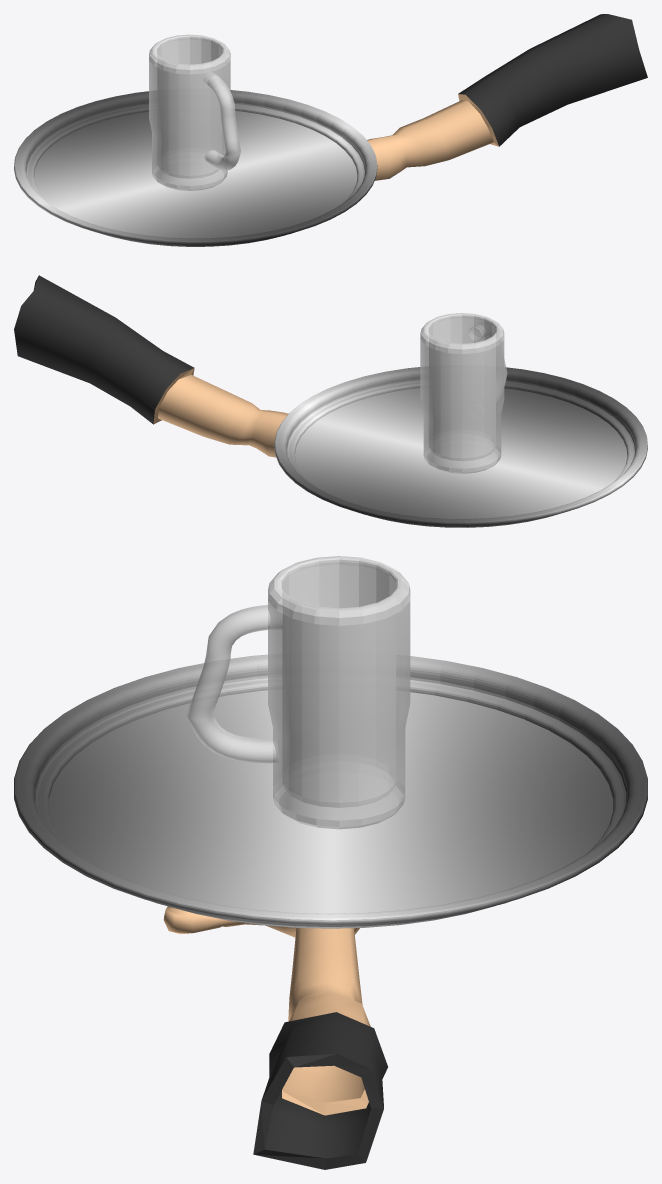
File: braco.obj
3 views of the same model, one above another, from view 1: azimuth 30°, elevation 25°; view 2: azimuth 150°, elevation 25°; view 3: azimuth 270°, elevation 25° (orthographic). The views are drawn at different scales.
Visible parts, largest first — view 1: bandeja, corpo, Cylinder03, Loft01; view 2: bandeja, corpo, Cylinder03; view 3: bandeja, Cylinder03, corpo, Loft01.
Part boxes in pixels (left/top/right/bottom): bandeja: left=14, top=90, right=377, bottom=246; corpo: left=367, top=14, right=647, bottom=180; Cylinder03: left=149, top=34, right=230, bottom=190; Loft01: left=203, top=72, right=240, bottom=170; bandeja: left=274, top=367, right=647, bottom=527; corpo: left=14, top=275, right=288, bottom=457; Cylinder03: left=420, top=313, right=504, bottom=473; bandeja: left=14, top=654, right=647, bottom=928; Cylinder03: left=268, top=556, right=410, bottom=829; corpo: left=163, top=906, right=387, bottom=1169; Loft01: left=186, top=605, right=282, bottom=763.
Size of the model in its own units: 164 by 45.07 by 87.63.
4 materials, 4 textured.
